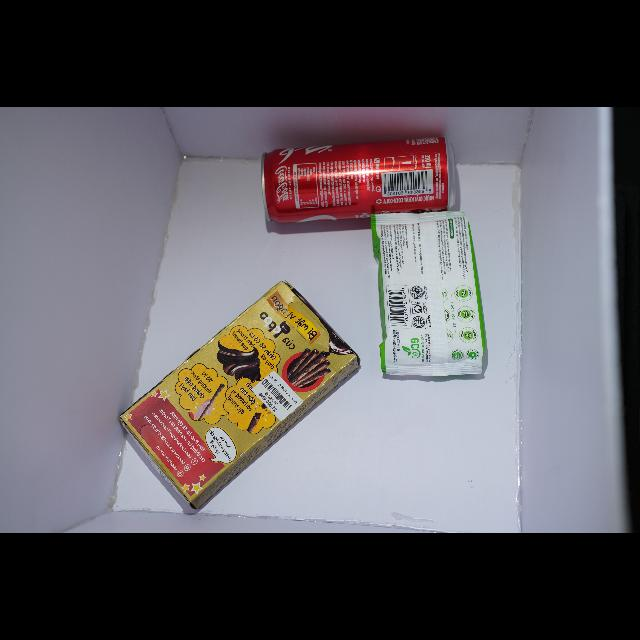banh_toppo_socola: (121, 281, 360, 509)
coca_cola: (263, 137, 454, 223)
khan_giay: (371, 212, 485, 376)
